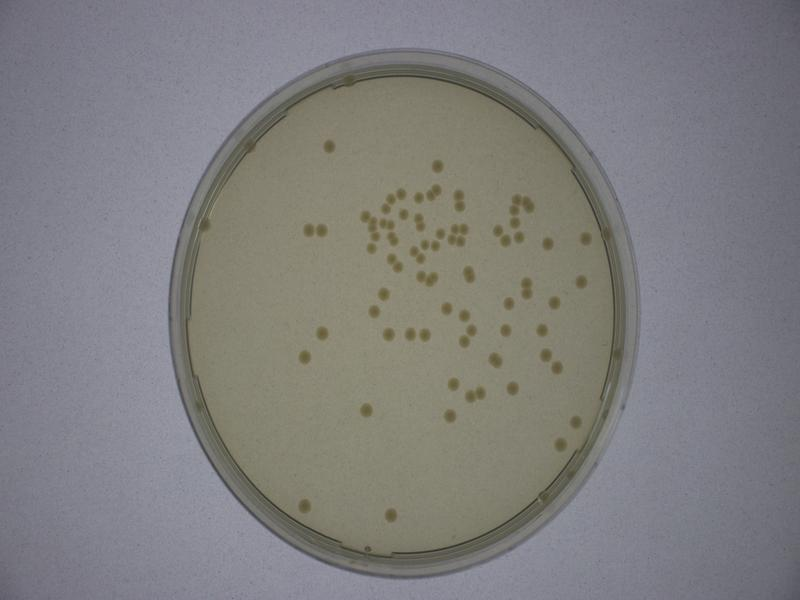colony: (292, 341, 318, 368), (291, 491, 320, 515), (351, 397, 382, 419), (315, 137, 343, 159), (427, 153, 451, 178), (499, 377, 523, 402), (381, 503, 403, 530), (573, 270, 594, 297), (534, 232, 558, 255), (496, 318, 518, 342), (441, 371, 464, 393), (440, 405, 461, 429), (547, 435, 572, 455), (498, 291, 518, 316), (313, 320, 335, 342), (374, 324, 397, 345), (398, 321, 419, 344), (434, 298, 457, 317), (546, 288, 563, 313), (417, 324, 437, 345), (548, 361, 567, 383), (575, 230, 596, 249), (534, 347, 557, 364), (375, 281, 393, 302), (534, 319, 552, 340), (365, 301, 383, 321)
